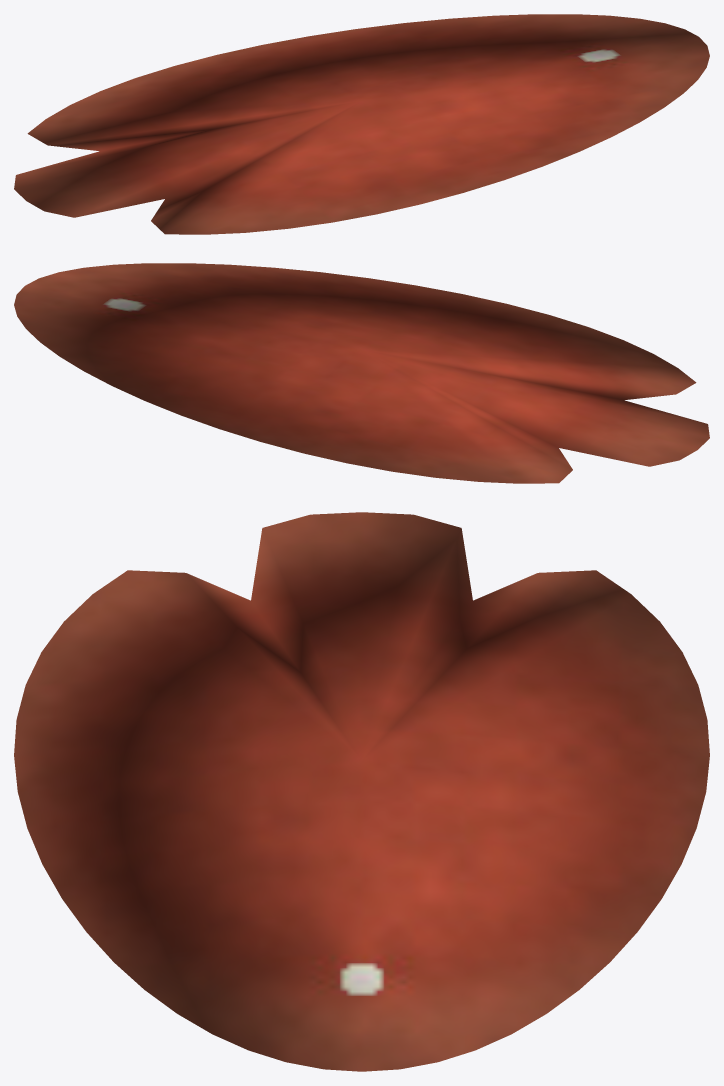
Rendered from micro_flatworm.glb.
3 renders of one model, top to bottom at view 1: azimuth 30°, elevation 25°; view 2: azimuth 150°, elevation 25°; view 3: azimuth 270°, elevation 25°, orthographic. The views are drawn at different scales.
Visible parts, largest first — view 1: Body; view 2: Body; view 3: Body.
Boxes of the visible parts, <box> form: Body: <box>14,14,709,234</box>; Body: <box>14,263,709,483</box>; Body: <box>14,512,709,1071</box>.
Bounding box in the file's own units: 1 × 0.035 × 0.5256.
Materials: 1 (1 with a texture image).
